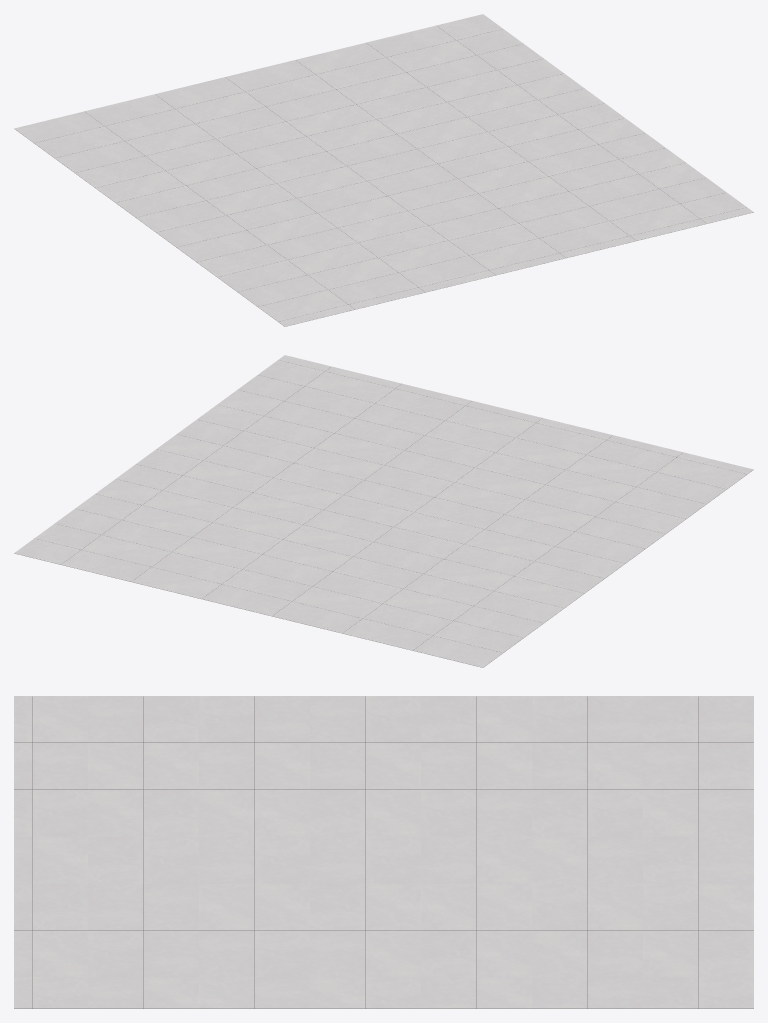
File: perla-60x120.glb
3 renders of one model, top to bottom at view 1: azimuth 30°, elevation 25°; view 2: azimuth 150°, elevation 25°; view 3: azimuth 270°, elevation 25°, orthographic. The views are drawn at different scales.
Parts seen in each view (by area): view 1: Perla; view 2: Perla; view 3: Perla.
Part boxes in pixels (x1,y1,x2,y2): Perla: [14, 14, 753, 326]; Perla: [14, 355, 753, 667]; Perla: [14, 696, 753, 1008].
Size of the model in its own units: 8 by 0.003 by 8.
Materials: 2 (1 with a texture image).
